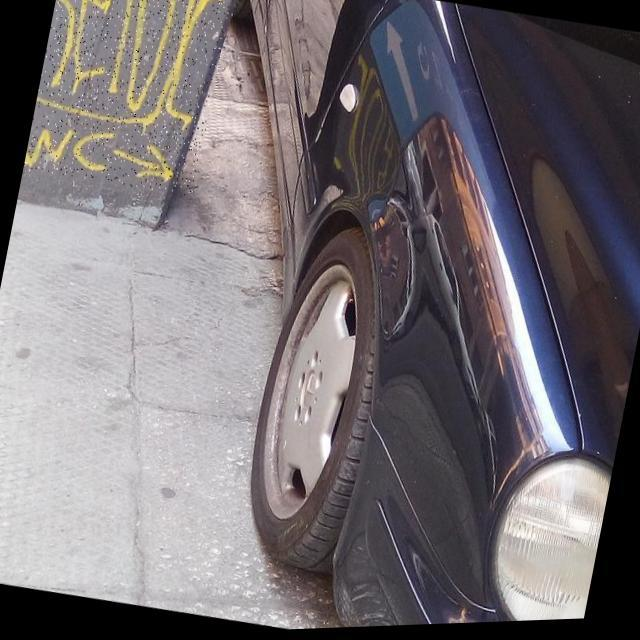-: (23, 0, 237, 202)
